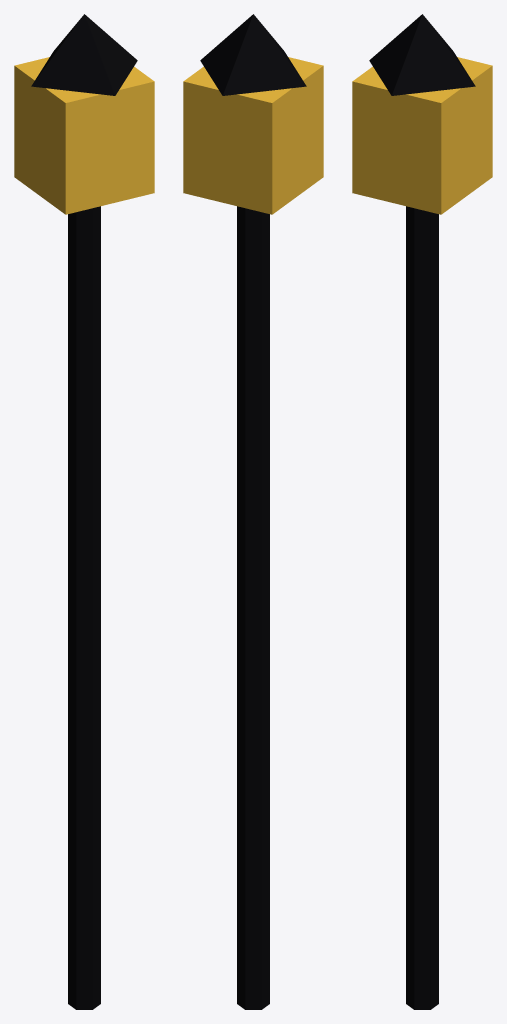
The model's file is Prop_OR_Lantern_10.glb.
3 renders of one model, left to right at view 1: azimuth 30°, elevation 25°; view 2: azimuth 150°, elevation 25°; view 3: azimuth 330°, elevation 25°, orthographic.
Visible parts, largest first — view 1: Prop_OR_Lantern_10; view 2: Prop_OR_Lantern_10; view 3: Prop_OR_Lantern_10.
Part boxes in pixels (bbox=[...]): Prop_OR_Lantern_10: bbox=[14, 14, 154, 1009]; Prop_OR_Lantern_10: bbox=[183, 14, 323, 1009]; Prop_OR_Lantern_10: bbox=[352, 14, 492, 1009].
Bounding box in the file's own units: 0.3 × 2.66 × 0.3.
